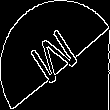M_SE: (26, 21, 84, 89)
